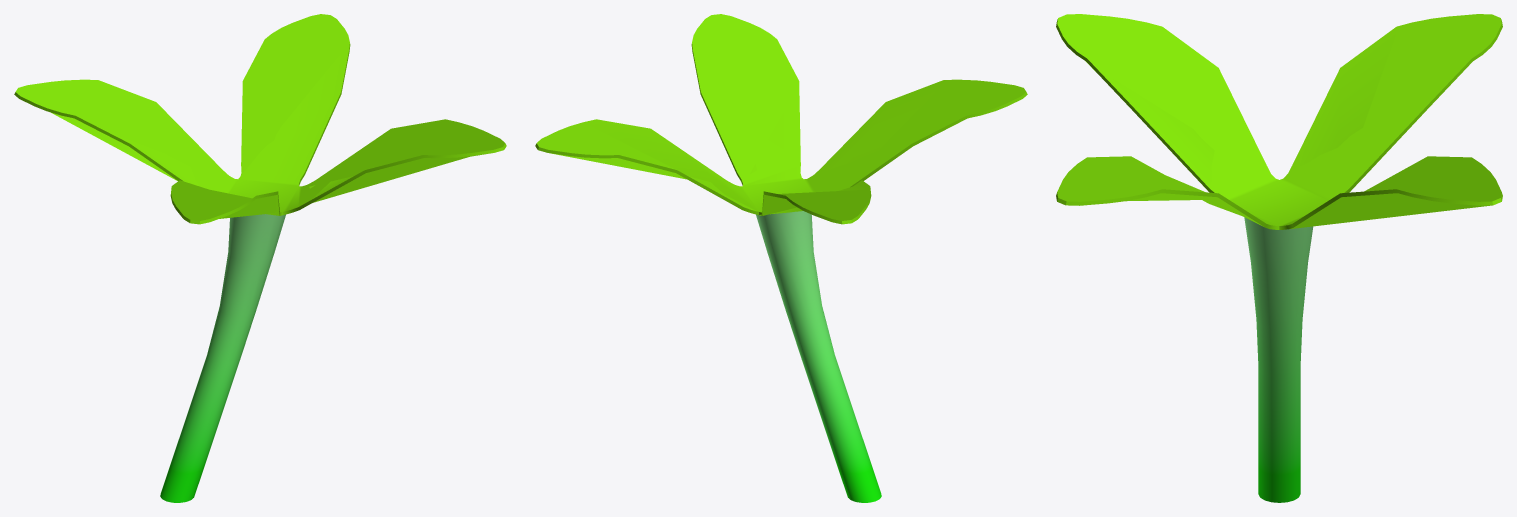
The model's file is flower_004.fbx.
3 views of the same model, side by side, from view 1: azimuth 30°, elevation 25°; view 2: azimuth 150°, elevation 25°; view 3: azimuth 270°, elevation 25° (orthographic). The views are drawn at different scales.
Visible parts, largest first — view 1: Circle.002; view 2: Circle.002; view 3: Circle.002.
Part boxes in pixels (left/top/right/bottom): Circle.002: left=14, top=14, right=506, bottom=502; Circle.002: left=535, top=14, right=1027, bottom=502; Circle.002: left=1056, top=14, right=1502, bottom=502.
Bounding box in the file's own units: 17.68 × 19.01 × 17.68.
Materials: 2 (1 with a texture image).
